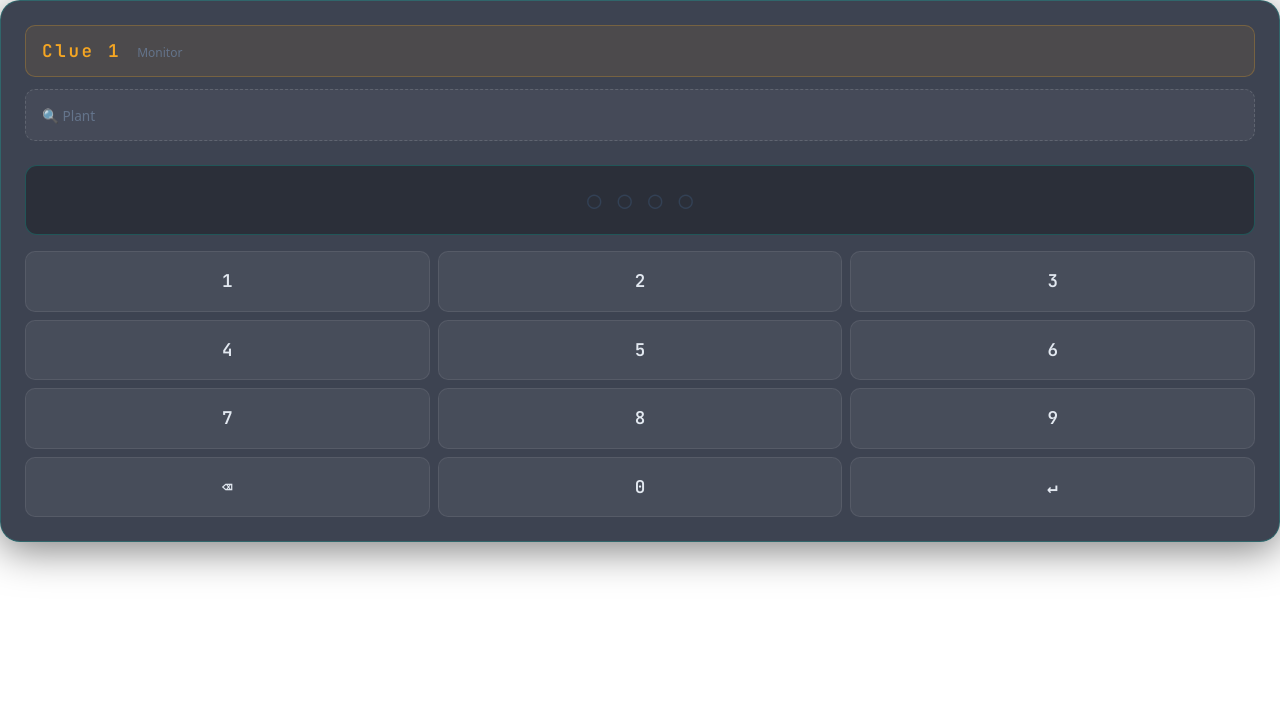
Test: KeypadPuzzle › reveals hotspot on click
What coordinates should you click on to do the following:
click the button labelled "🔍 Plant"
I would click on:
 (79, 116)
Its box is [25,89,1255,141].
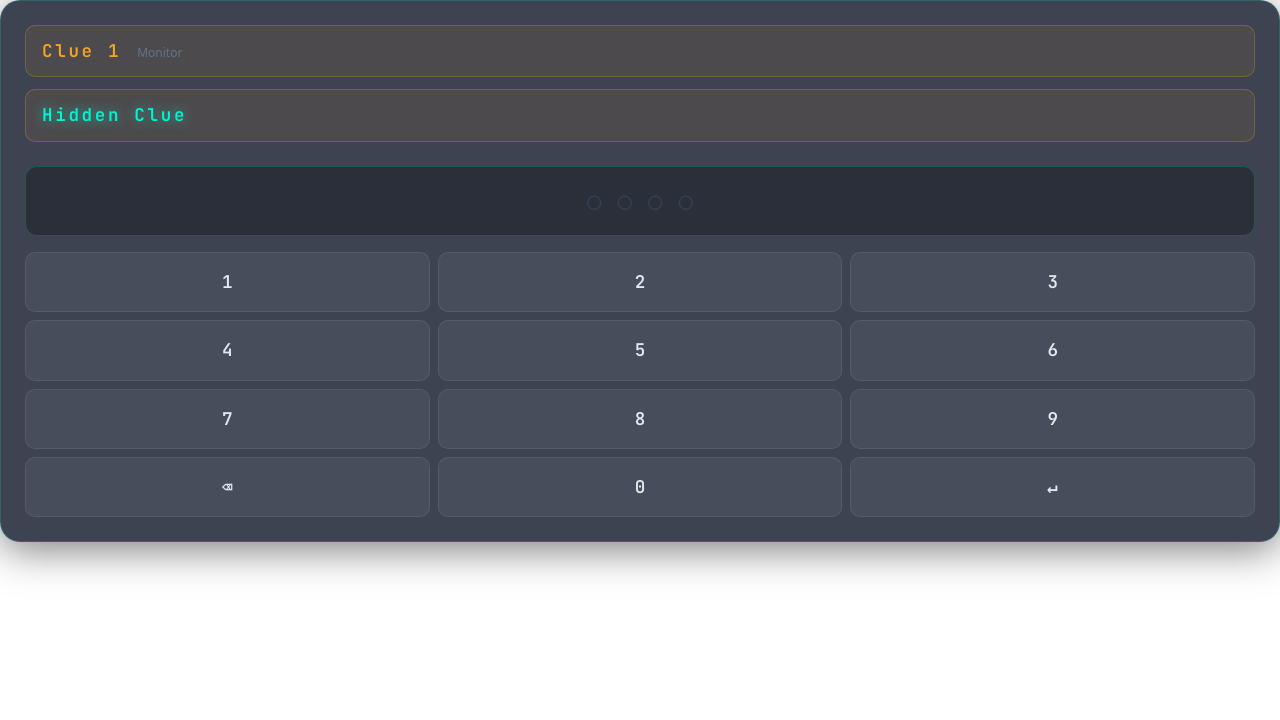
Expected: the text "Hidden Clue" is shown, [42,103,187,126]
